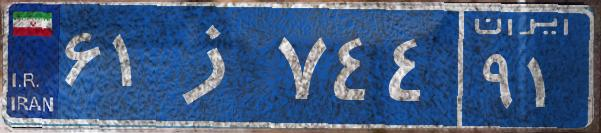1: (110, 28, 158, 105), (525, 38, 570, 115)
4: (385, 28, 445, 110), (330, 28, 385, 110)
6: (57, 26, 110, 107)
7: (273, 28, 330, 110)
9: (475, 38, 525, 113)
ز: (158, 15, 273, 115)
